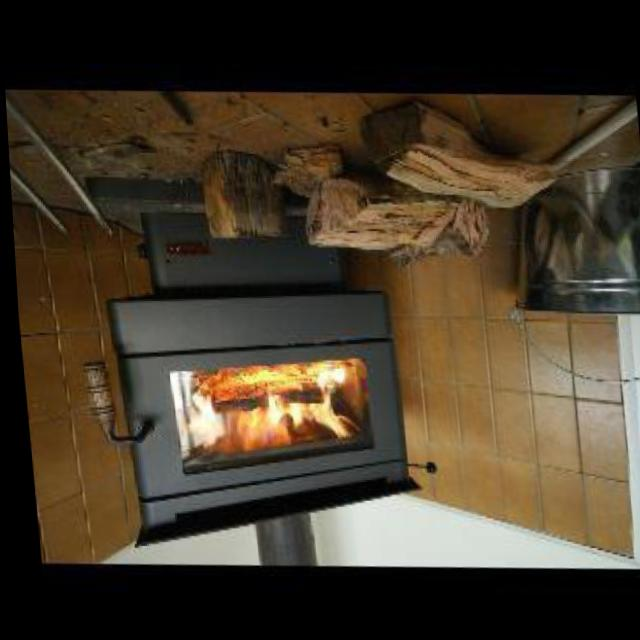Fire: (186, 357, 366, 453)
